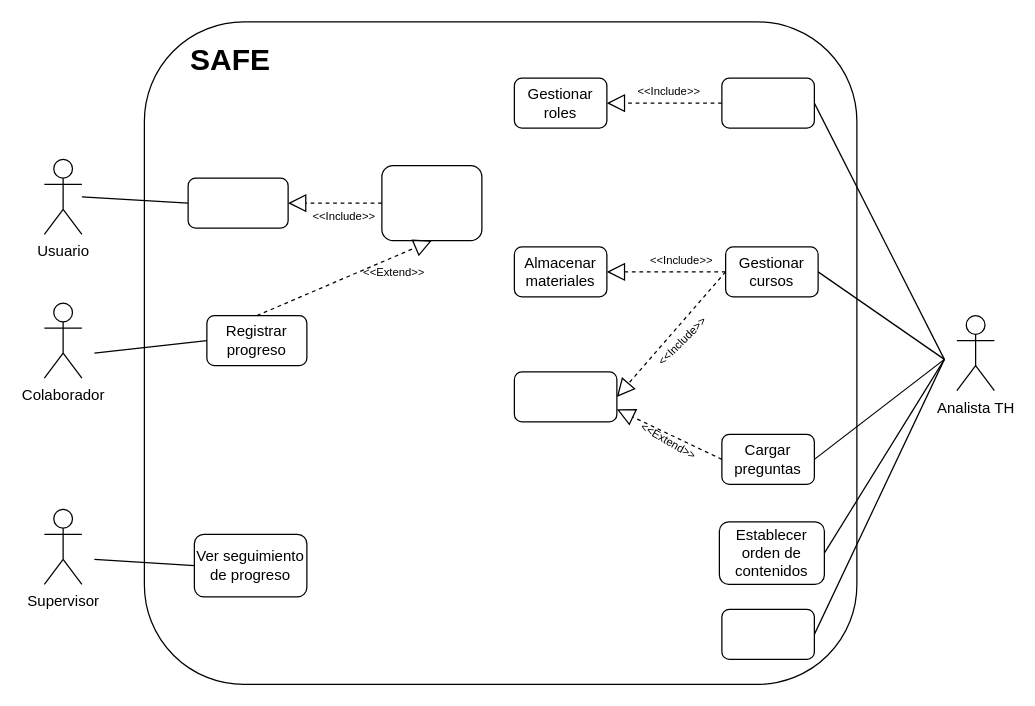
The diagram is 1035 pixels wide and 706 high, and some of its shapes have lost their labels. Each missing label, with the centre of its shape:
Acceder a cursos y contenidos: [431,202]
Acceder al sistema: [237,202]
Crear exámenes y tareas: [565,396]
Gestionar rutas: [767,633]
Gestionar usuarios: [767,102]
